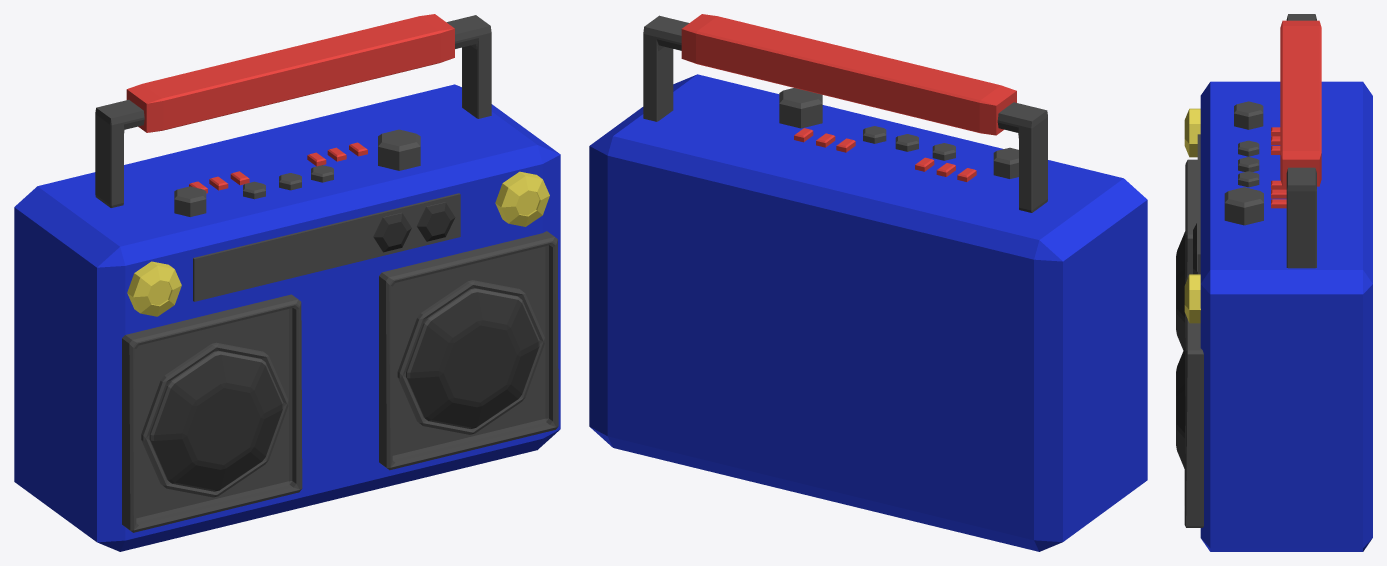
The model's file is radioblend 1.fbx.
3 views of the same model, side by side, from view 1: azimuth 30°, elevation 25°; view 2: azimuth 150°, elevation 25°; view 3: azimuth 270°, elevation 25° (orthographic). The views are drawn at different scales.
Parts seen in each view (by area): view 1: basedeverdad, Cylinder.006, base, Cylinder.004, Cube.001, Cylinder.009, Cylinder.007, Cylinder, Cube.002, Cylinder.001; view 2: basedeverdad, base, Cube.001, Cylinder, Cube.002, Cylinder.001; view 3: basedeverdad, Cylinder.006, base, Cube.001, Cylinder, Cylinder.007, Cylinder.001, Cylinder.004, Cylinder.009, Cube.002, Cylinder.002, Cylinder.005 (+1 smaller).
Part boxes in pixels (<box>): basedeverdad: <box>14,84,560,551</box>; Cylinder.006: <box>122,231,558,532</box>; base: <box>126,14,454,132</box>; Cylinder.004: <box>193,193,460,301</box>; Cube.001: <box>95,15,491,207</box>; Cylinder.009: <box>127,261,181,316</box>; Cylinder.007: <box>495,171,549,226</box>; Cylinder: <box>378,129,420,170</box>; Cube.002: <box>189,142,367,193</box>; Cylinder.001: <box>174,186,206,216</box>; basedeverdad: <box>589,74,1147,551</box>; base: <box>681,14,1016,135</box>; Cube.001: <box>643,15,1047,212</box>; Cylinder: <box>779,88,822,128</box>; Cube.002: <box>794,128,976,181</box>; Cylinder.001: <box>993,147,1018,178</box>; basedeverdad: <box>1200,81,1372,551</box>; Cylinder.006: <box>1176,159,1203,527</box>; base: <box>1280,20,1321,186</box>; Cube.001: <box>1286,14,1316,268</box>; Cylinder: <box>1224,187,1263,225</box>; Cylinder.007: <box>1184,274,1200,323</box>; Cylinder.001: <box>1234,101,1263,129</box>; Cylinder.004: <box>1193,134,1200,274</box>; Cylinder.009: <box>1184,108,1200,157</box>; Cube.002: <box>1271,127,1286,208</box>; Cylinder.002: <box>1238,140,1259,156</box>; Cylinder.005: <box>1238,171,1259,187</box>.
Bounding box in the file's own units: 423 × 353 × 168.
